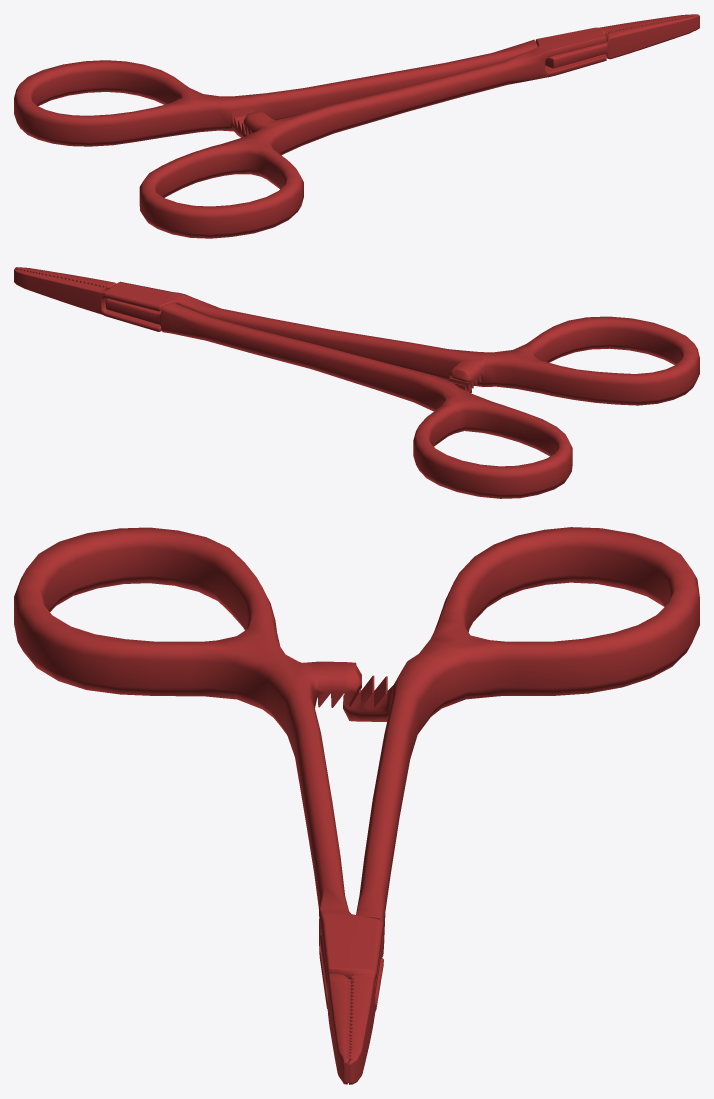
File: Crile_Straight.fbx
The picture shows the model from 3 angles, top to bottom: view 1: azimuth 30°, elevation 25°; view 2: azimuth 150°, elevation 25°; view 3: azimuth 270°, elevation 25°; orthographic projection. The views are drawn at different scales.
Parts seen in each view (by area): view 1: Crile_HemostaticForceps_Rig_v2_0001:Geo_CriHem__l_Str_Arm_01, Crile_HemostaticForceps_Rig_v2_0001:Geo_CriHem__r_Str_Arm_01; view 2: Crile_HemostaticForceps_Rig_v2_0001:Geo_CriHem__r_Str_Arm_01, Crile_HemostaticForceps_Rig_v2_0001:Geo_CriHem__l_Str_Arm_01; view 3: Crile_HemostaticForceps_Rig_v2_0001:Geo_CriHem__r_Str_Arm_01, Crile_HemostaticForceps_Rig_v2_0001:Geo_CriHem__l_Str_Arm_01.
Boxes of the visible parts, x1,y1,x2,y2 form: Crile_HemostaticForceps_Rig_v2_0001:Geo_CriHem__l_Str_Arm_01: [14, 14, 699, 146]; Crile_HemostaticForceps_Rig_v2_0001:Geo_CriHem__r_Str_Arm_01: [139, 14, 697, 238]; Crile_HemostaticForceps_Rig_v2_0001:Geo_CriHem__r_Str_Arm_01: [14, 269, 699, 405]; Crile_HemostaticForceps_Rig_v2_0001:Geo_CriHem__l_Str_Arm_01: [15, 267, 572, 498]; Crile_HemostaticForceps_Rig_v2_0001:Geo_CriHem__r_Str_Arm_01: [14, 527, 383, 1084]; Crile_HemostaticForceps_Rig_v2_0001:Geo_CriHem__l_Str_Arm_01: [320, 527, 699, 1084].
Size of the model in its own units: 12.4 by 0.5538 by 6.89.
